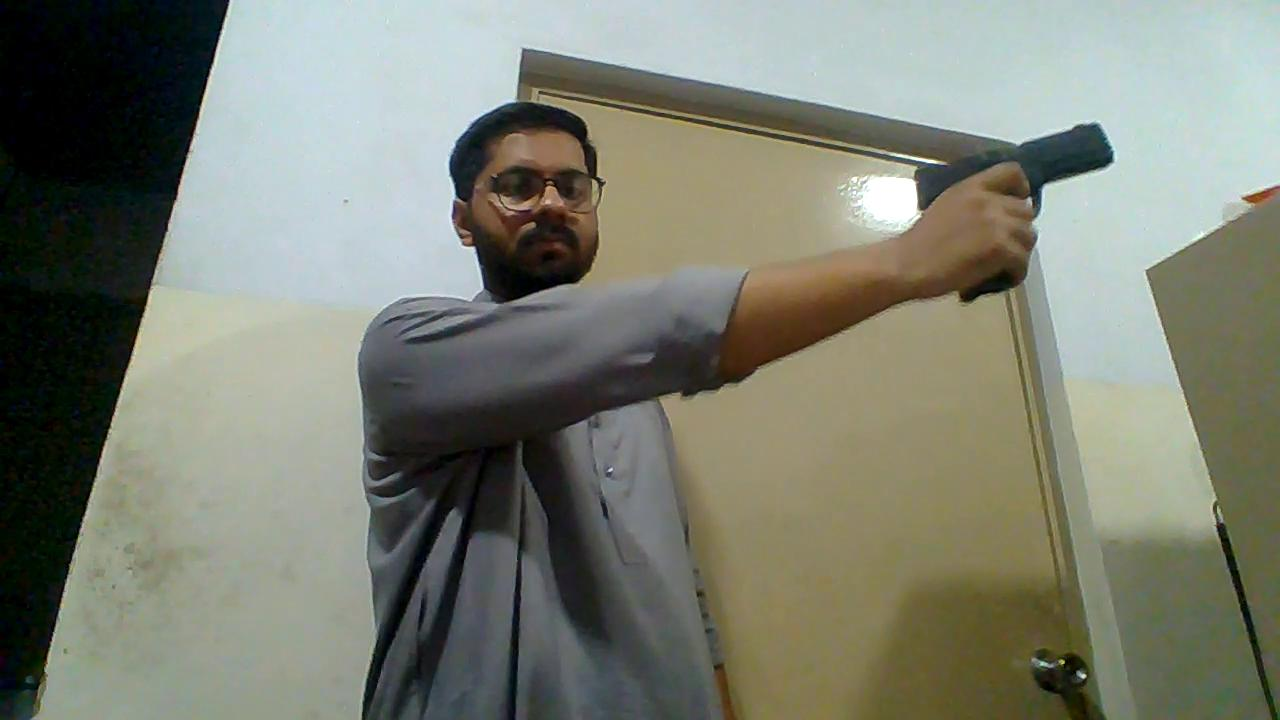criminal: (354, 100, 1116, 720)
weapon: (913, 119, 1116, 228)
